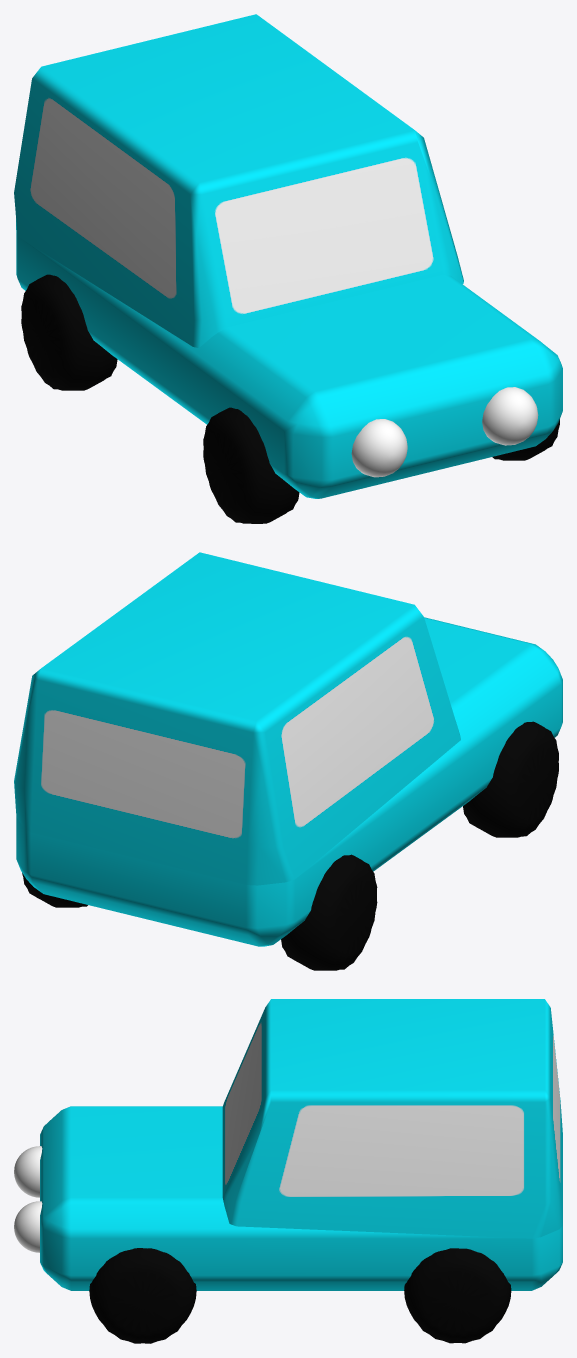
File: Car.fbx
3 renders of one model, top to bottom at view 1: azimuth 30°, elevation 25°; view 2: azimuth 150°, elevation 25°; view 3: azimuth 270°, elevation 25°, orthographic. The views are drawn at different scales.
Parts seen in each view (by area): view 1: pSphere3; view 2: pSphere3; view 3: pSphere3.
Part boxes in pixels (x1=…): pSphere3: x1=14, y1=14, x2=562, y2=523; pSphere3: x1=14, y1=552, x2=562, y2=970; pSphere3: x1=14, y1=999, x2=562, y2=1343.
Bounding box in the file's own units: 424 × 358 × 741.
1 material, 1 textured.
